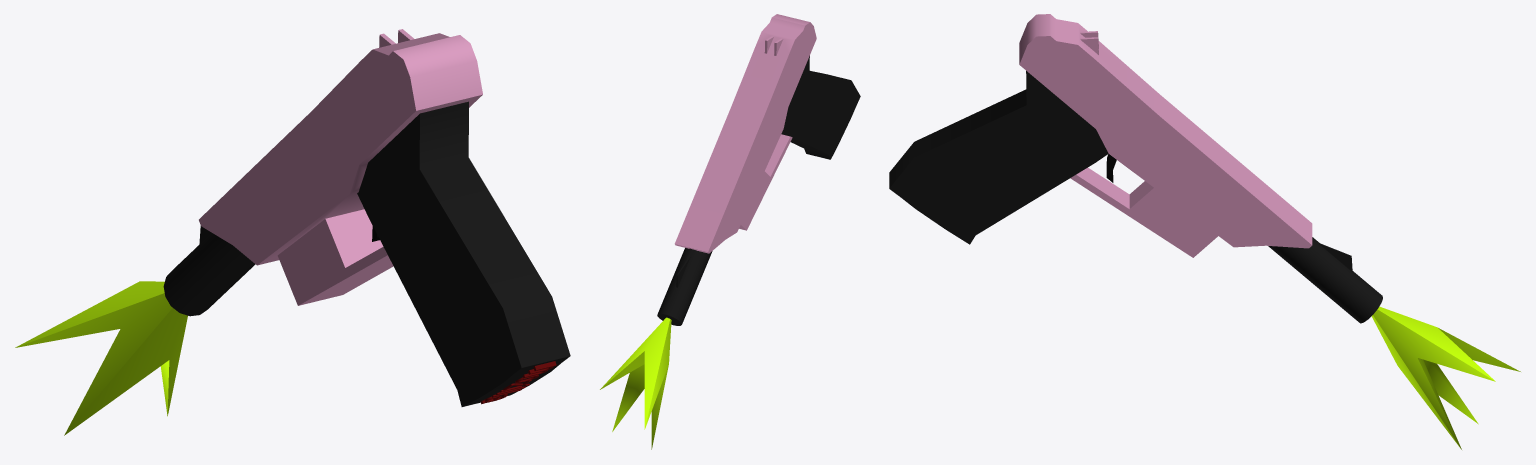
The model's file is gun.obj.
3 views of the same model, side by side, from view 1: azimuth 30°, elevation 25°; view 2: azimuth 150°, elevation 25°; view 3: azimuth 270°, elevation 25° (orthographic). The views are drawn at different scales.
Visible parts, largest first — view 1: Box002, Box009, fire, Cylinder001, Text001; view 2: Box009, Box002, fire, Cylinder001; view 3: Box009, Box002, fire, Cylinder001.
Part boxes in pixels (x1,y1,x2,y2): Box002: [357, 101, 570, 406]; Box009: [199, 29, 482, 305]; fire: [15, 281, 187, 435]; Cylinder001: [163, 226, 255, 316]; Text001: [480, 361, 556, 404]; Box009: [674, 14, 816, 253]; Box002: [781, 55, 860, 159]; fire: [600, 317, 671, 449]; Cylinder001: [657, 248, 712, 325]; Box009: [1019, 14, 1312, 257]; Box002: [889, 71, 1108, 244]; fire: [1371, 306, 1520, 449]; Cylinder001: [1268, 237, 1382, 323].
Bounding box in the file's own units: 0.0423 × 0.2265 × 0.3135.
